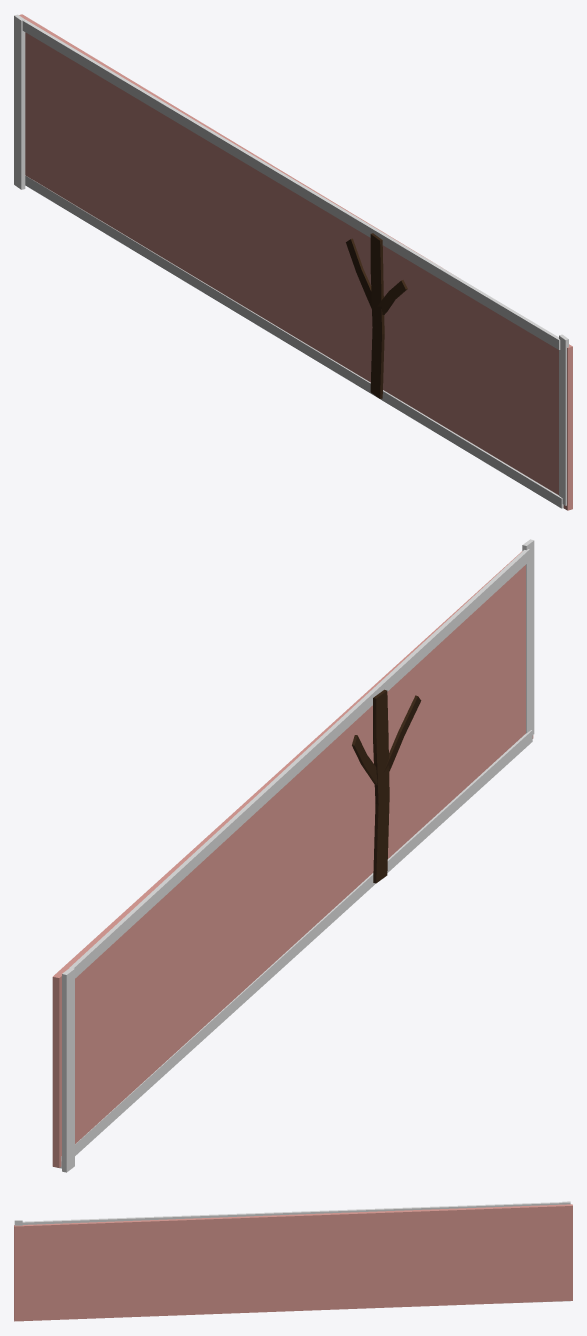
File: WallRight.fbx
3 renders of one model, top to bottom at view 1: azimuth 30°, elevation 25°; view 2: azimuth 150°, elevation 25°; view 3: azimuth 270°, elevation 25°, orthographic. The views are drawn at different scales.
Parts seen in each view (by area): view 1: Cube.004, Cube.011, Cube.012, Cube.006, Cube.015, Cube.005; view 2: Cube.004, Cube.011, Cube.012, Cube.006, Cube.015, Cube.005; view 3: Cube.004, Cube.011.
Part boxes in pixels (x1,y1,x2,y2): Cube.004: (19,14,572,510); Cube.011: (22,19,560,349); Cube.012: (25,175,563,508); Cube.006: (370,233,384,398); Cube.015: (14,14,25,189); Cube.005: (559,334,568,505); Cube.004: (52,551,533,1167); Cube.011: (69,549,529,978); Cube.012: (57,730,532,1168); Cube.006: (373,689,389,883); Cube.015: (62,967,74,1172); Cube.005: (522,539,534,734); Cube.004: (14,1204,572,1321); Cube.011: (22,1202,562,1224).
Bounding box in the file's own units: 372 × 749 × 3725.
